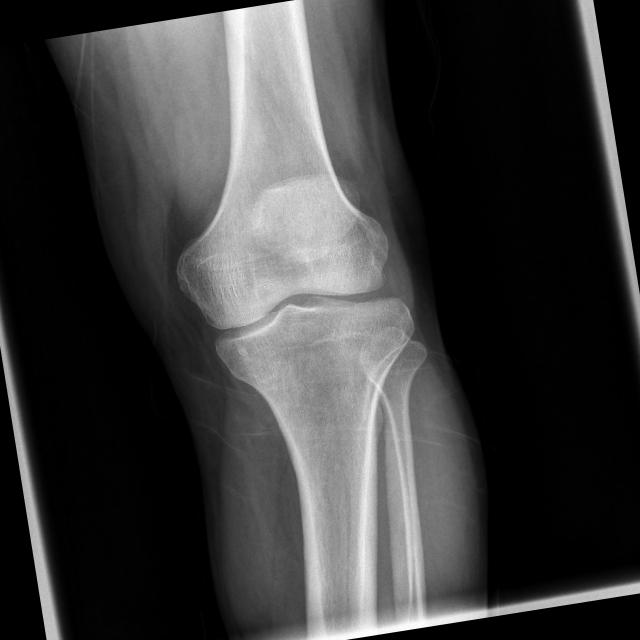Knee: (163, 166, 430, 430)
